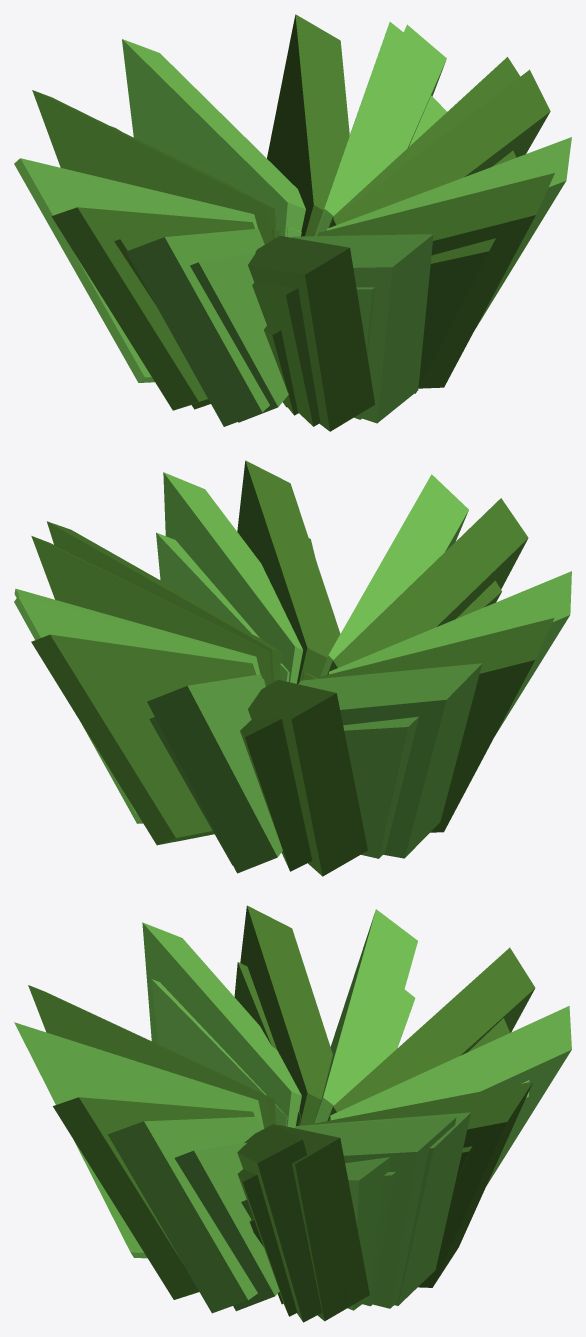
The model's file is Crop_Crop_Mint.fbx.
The picture shows the model from 3 angles, top to bottom: view 1: azimuth 30°, elevation 25°; view 2: azimuth 150°, elevation 25°; view 3: azimuth 270°, elevation 25°; orthographic projection.
Parts seen in each view (by area): view 1: Crop_Crop_Mint__S4, Crop_Crop_Mint__S3, Crop_Crop_Mint__S2; view 2: Crop_Crop_Mint__S4, Crop_Crop_Mint__S3; view 3: Crop_Crop_Mint__S4, Crop_Crop_Mint__S3.
Part boxes in pixels (x1=…): Crop_Crop_Mint__S4: x1=14, y1=14, x2=571, y2=431; Crop_Crop_Mint__S3: x1=111, y1=95, x2=516, y2=426; Crop_Crop_Mint__S2: x1=264, y1=325, x2=298, y2=415; Crop_Crop_Mint__S4: x1=14, y1=460, x2=571, y2=876; Crop_Crop_Mint__S3: x1=149, y1=532, x2=501, y2=871; Crop_Crop_Mint__S4: x1=14, y1=905, x2=571, y2=1322; Crop_Crop_Mint__S3: x1=151, y1=962, x2=529, y2=1316.
Bounding box in the file's own units: 0.0843 × 0.0421 × 0.0843.
